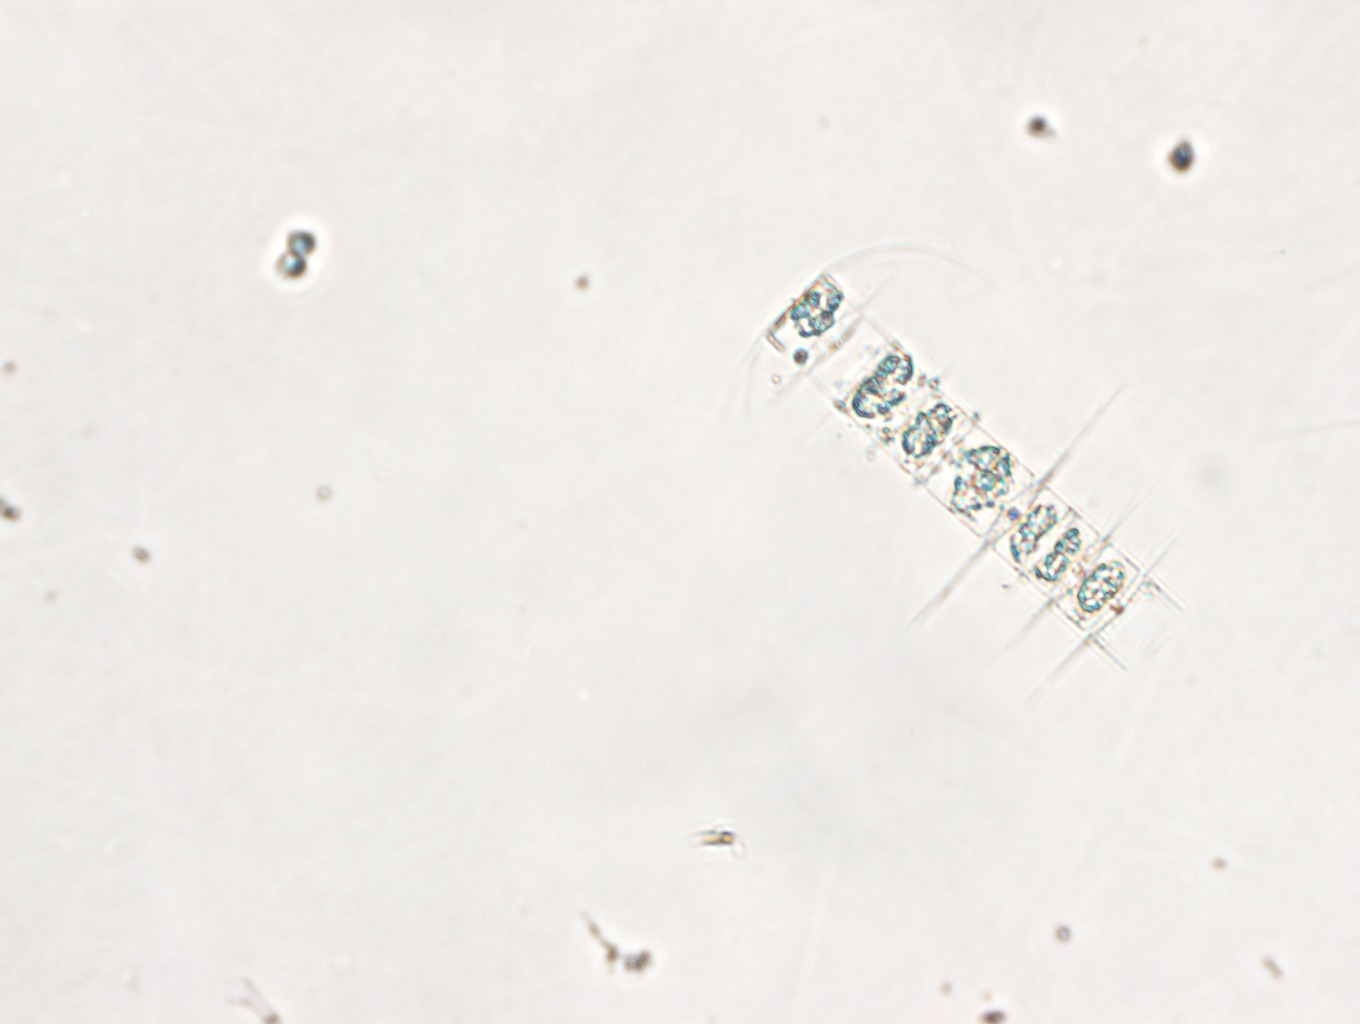chaetoceros: (733, 241, 1188, 705)
